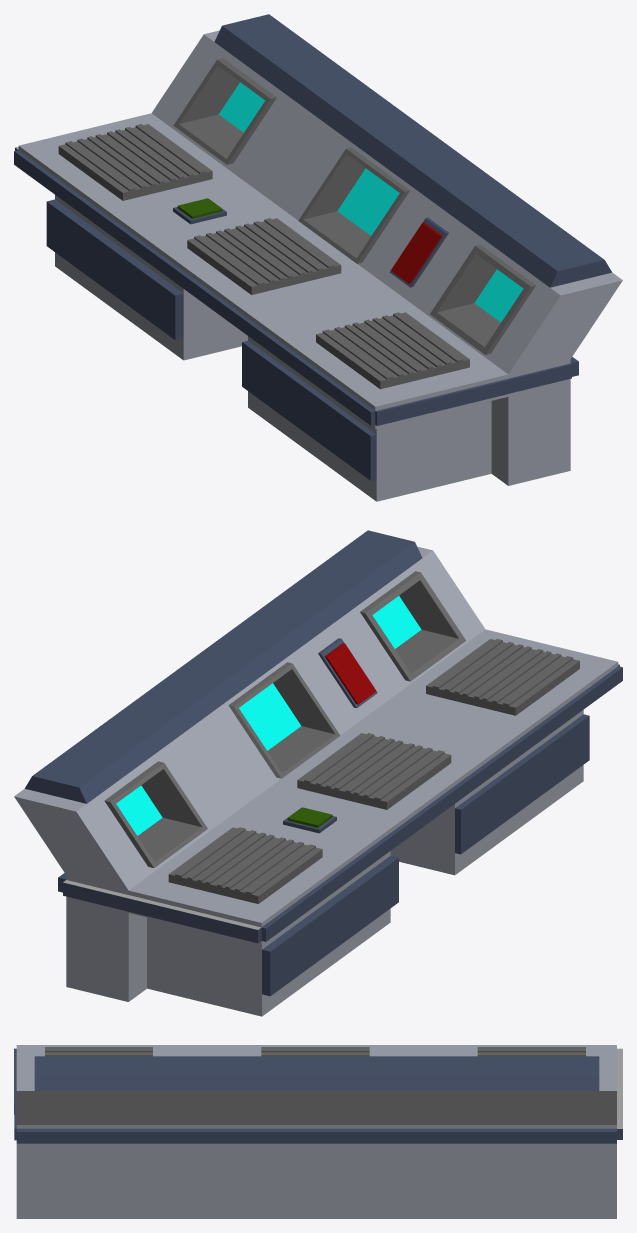
The model's file is control.fbx.
3 renders of one model, top to bottom at view 1: azimuth 30°, elevation 25°; view 2: azimuth 150°, elevation 25°; view 3: azimuth 270°, elevation 25°, orthographic. The views are drawn at different scales.
Parts seen in each view (by area): view 1: pCube1; view 2: pCube1; view 3: pCube1.
Boxes of the visible parts, bbox=[...] form: pCube1: bbox=[14, 14, 622, 501]; pCube1: bbox=[14, 530, 622, 1016]; pCube1: bbox=[14, 1045, 622, 1218].
Bounding box in the file's own units: 4.06 × 2.96 × 10.09.
